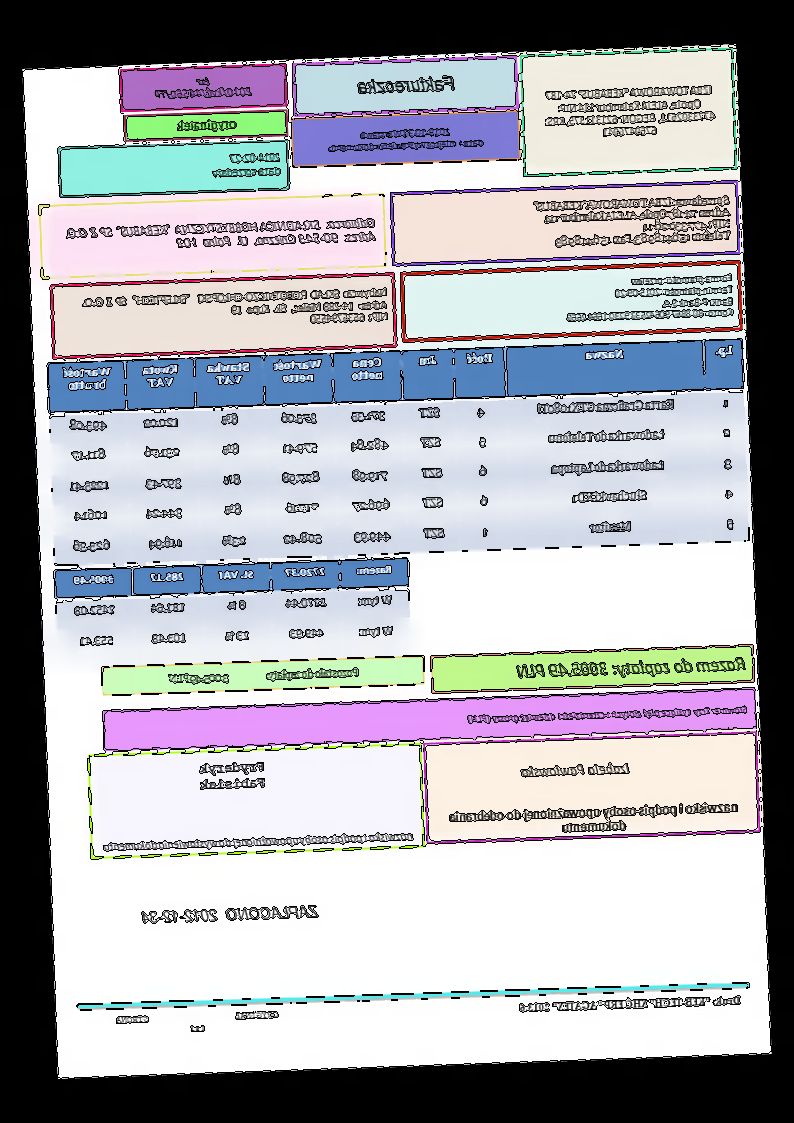Table: (46, 337, 751, 568), (52, 555, 414, 661)
TextBox: (80, 285, 390, 333), (63, 215, 380, 254), (532, 191, 733, 250), (448, 800, 740, 838), (542, 82, 718, 141), (565, 271, 736, 323), (101, 827, 416, 854), (514, 653, 748, 680), (465, 704, 749, 726), (517, 993, 744, 1016), (325, 125, 486, 156), (138, 902, 321, 928), (115, 1008, 280, 1036), (167, 665, 361, 686), (151, 73, 255, 104), (195, 759, 268, 791), (211, 151, 283, 182), (357, 74, 456, 96), (519, 761, 631, 779), (174, 116, 240, 134)
